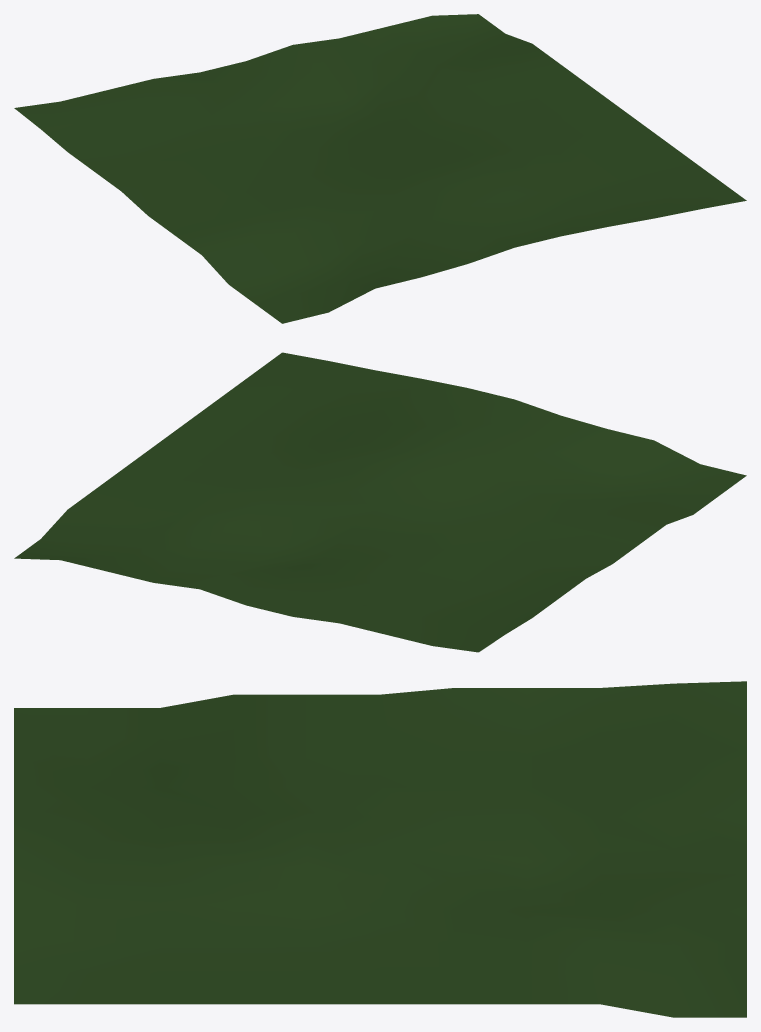
The picture shows the model from 3 angles, top to bottom: view 1: azimuth 30°, elevation 25°; view 2: azimuth 150°, elevation 25°; view 3: azimuth 270°, elevation 25°; orthographic projection. The views are drawn at different scales.
Parts seen in each view (by area): view 1: TerrainModel.043; view 2: TerrainModel.043; view 3: TerrainModel.043.
Boxes of the visible parts, x1,y1,x2,y2 form: TerrainModel.043: [14, 14, 746, 323]; TerrainModel.043: [14, 352, 746, 652]; TerrainModel.043: [14, 681, 746, 1017].
Bounding box in the file's own units: 19608 × 784 × 19608.
